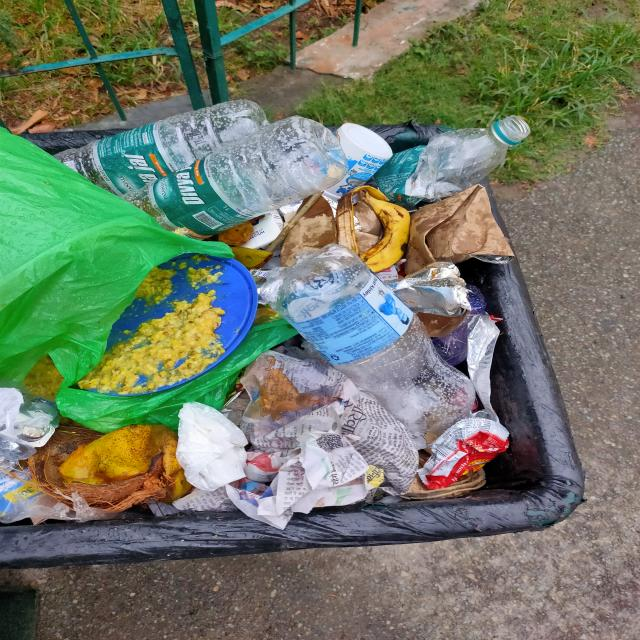B3: (256, 256, 481, 442), (52, 100, 354, 237), (4, 128, 101, 349), (265, 352, 369, 506), (381, 112, 532, 206), (416, 173, 513, 265), (418, 416, 512, 498), (182, 400, 248, 487), (68, 397, 176, 425)
